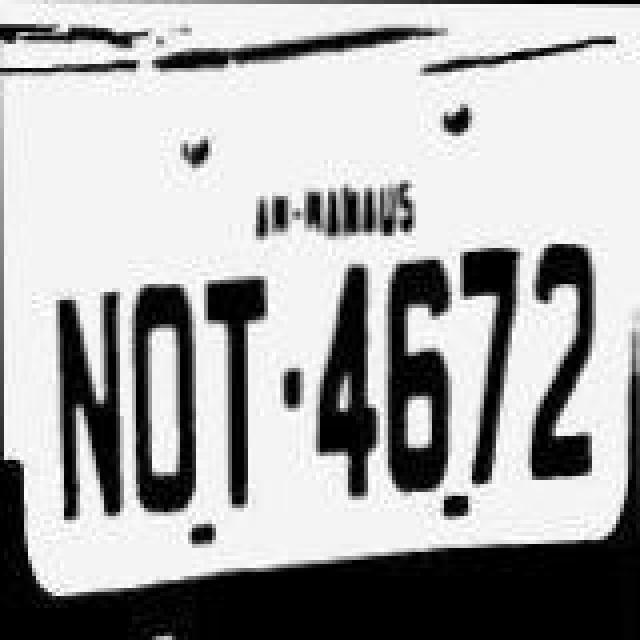2: (524, 230, 600, 490)
4: (312, 250, 380, 506)
6: (380, 248, 456, 500)
7: (454, 232, 526, 492)
N: (40, 270, 124, 530)
O: (120, 266, 204, 518)
T: (196, 268, 280, 520)
